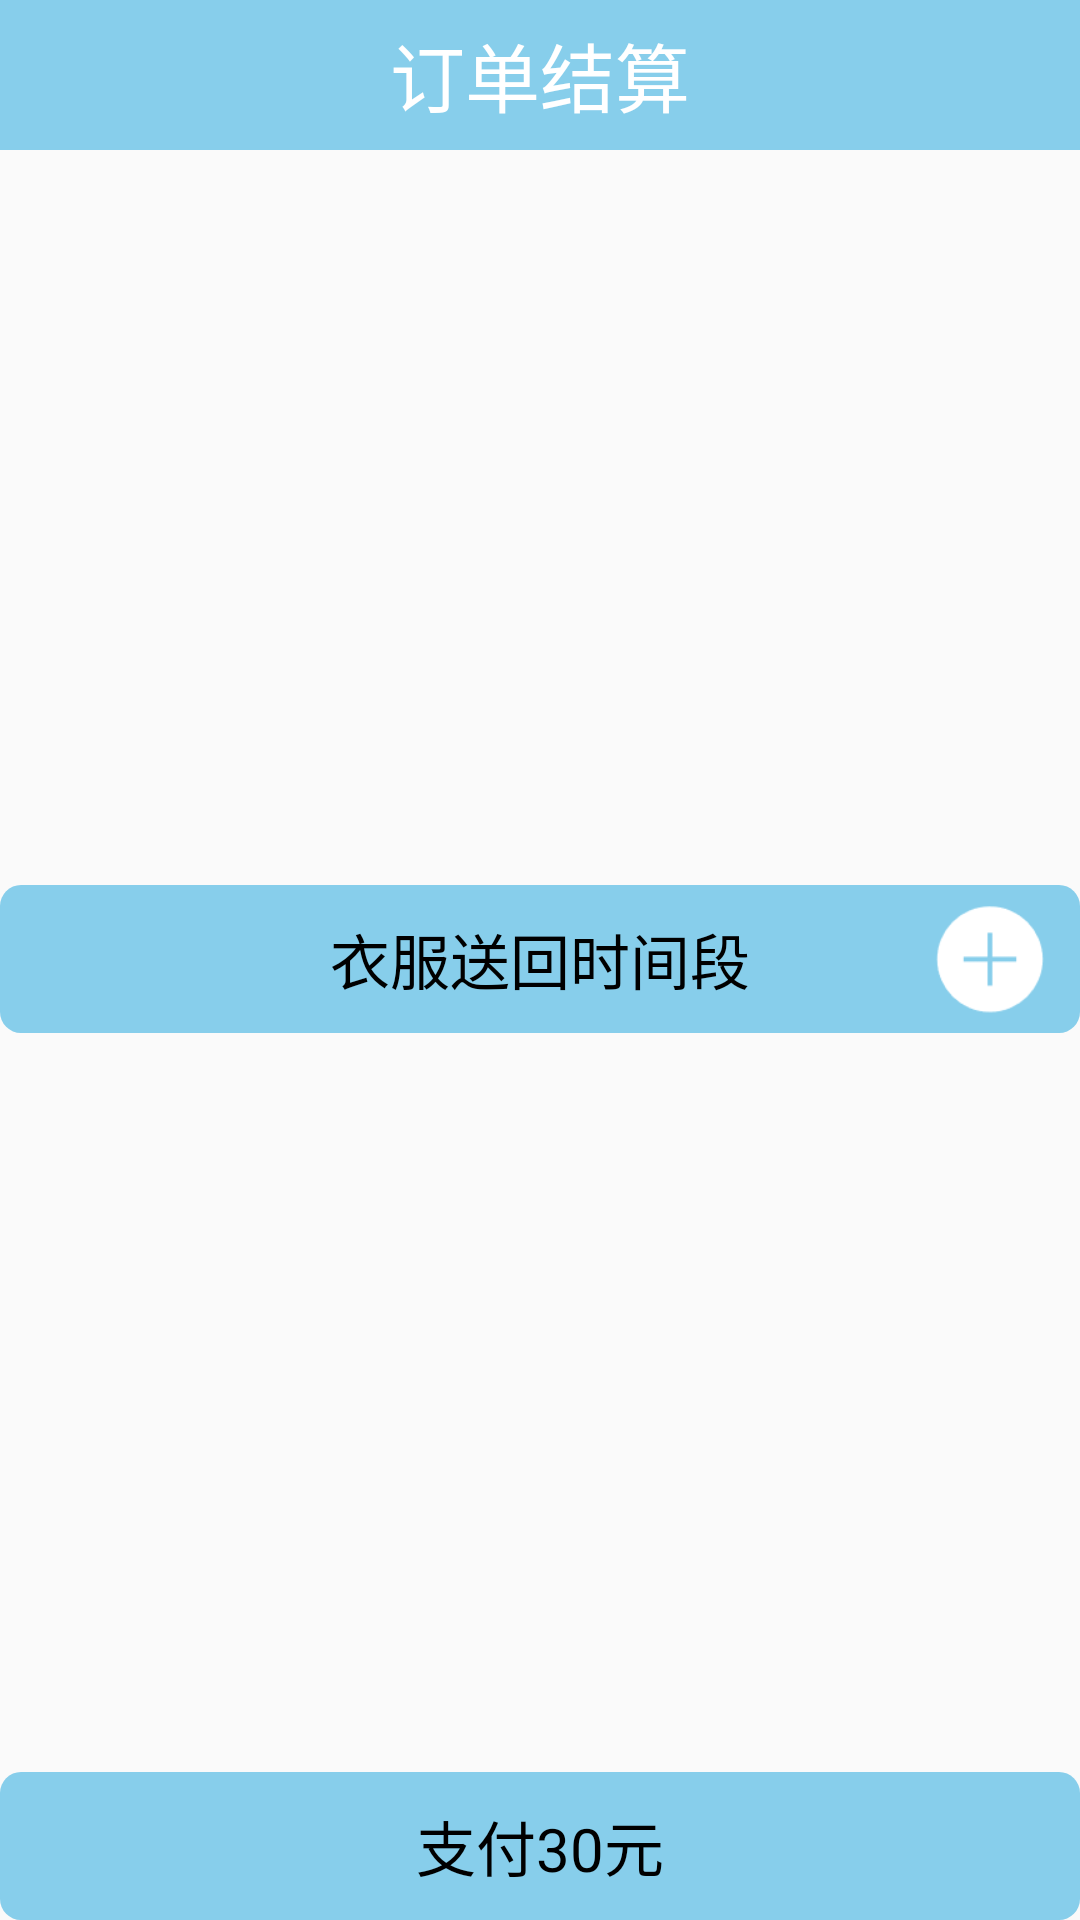

Screen size 1080 x 1920. Icon name, then its box in pixels as (x1, y1, x2, y2):
add: (937, 906, 1043, 1013)
